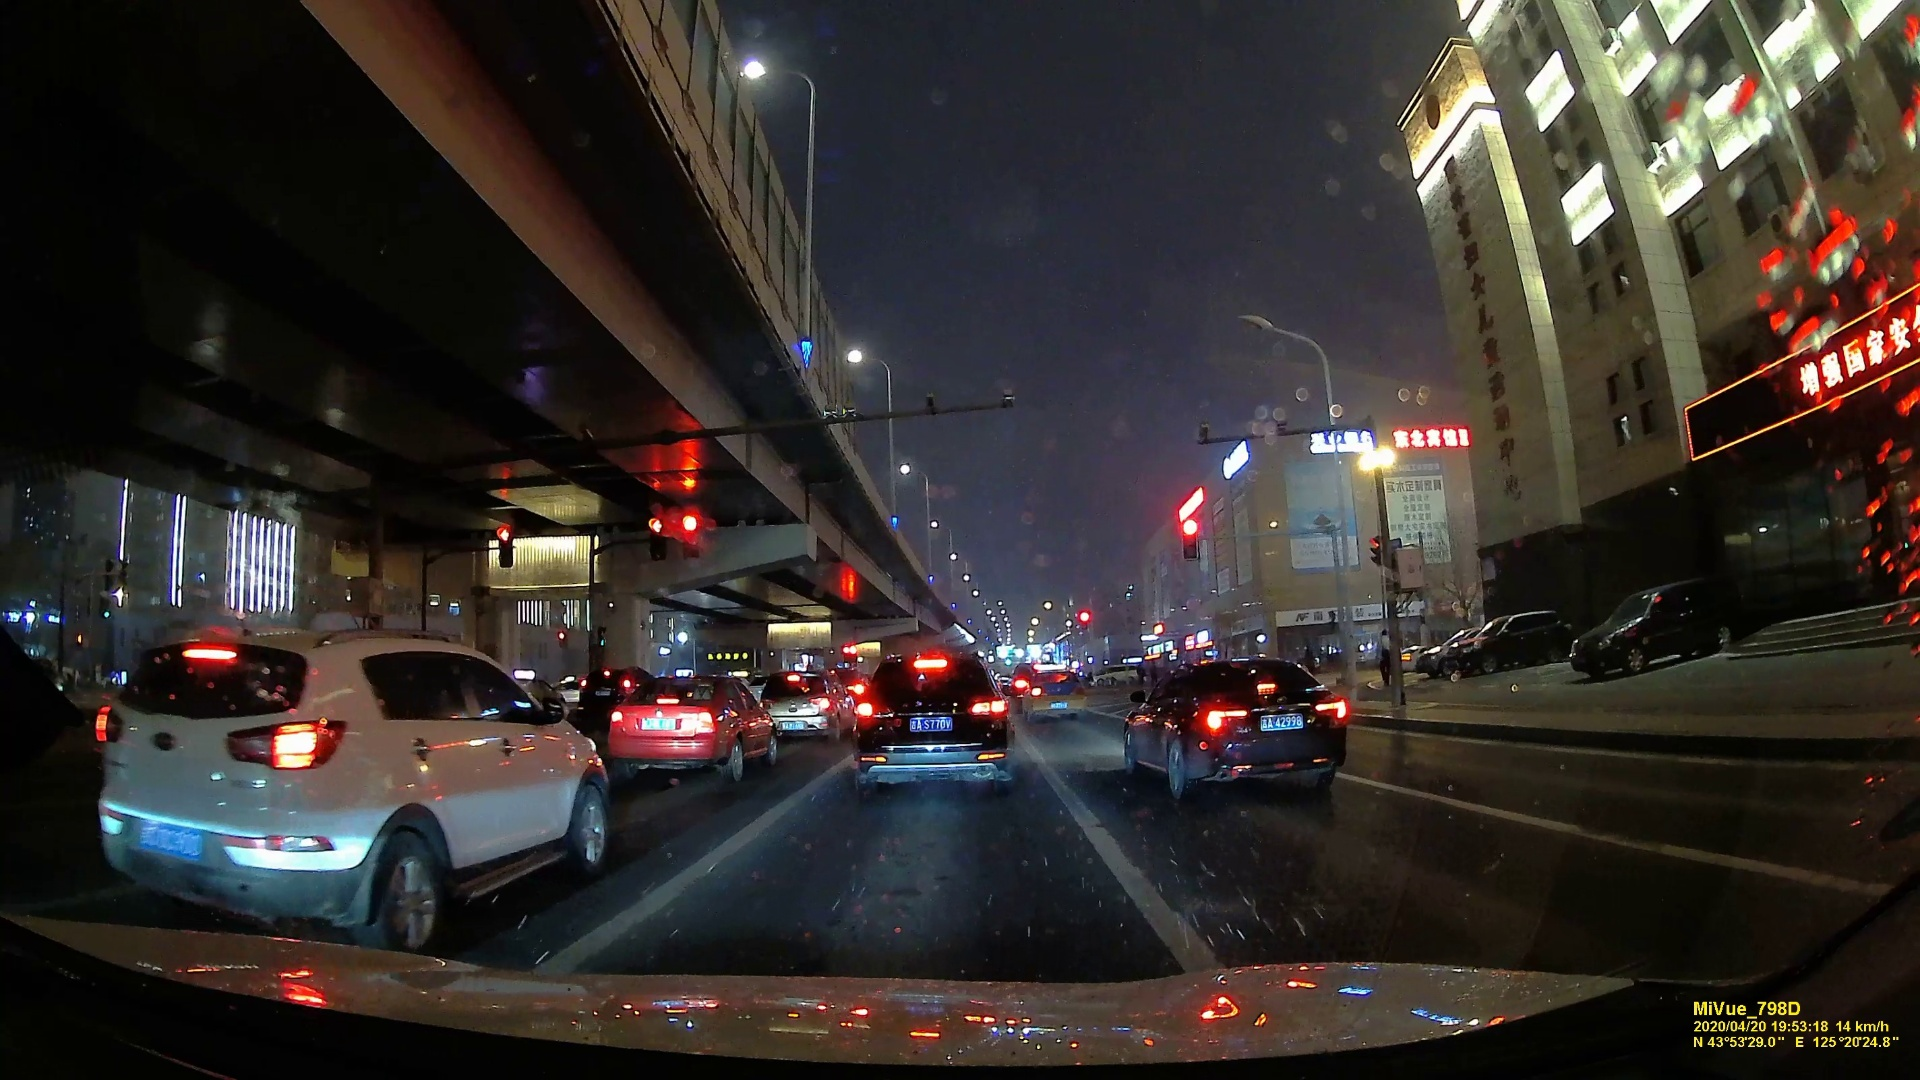person: (1372, 628, 1390, 691)
traffic_sign: (644, 517, 668, 561), (496, 526, 515, 565), (1180, 519, 1199, 557), (1366, 534, 1382, 567)
vehicle: (86, 649, 601, 940), (1121, 658, 1349, 800), (852, 650, 1013, 795), (604, 675, 778, 784), (1578, 576, 1755, 680), (763, 668, 851, 736), (1021, 666, 1083, 720), (577, 668, 641, 708), (677, 515, 702, 558)
